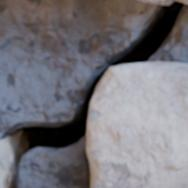brick: (87, 63, 187, 187)
broken_brick: (135, 0, 173, 5), (179, 0, 187, 5)
crack: (0, 0, 186, 187)
